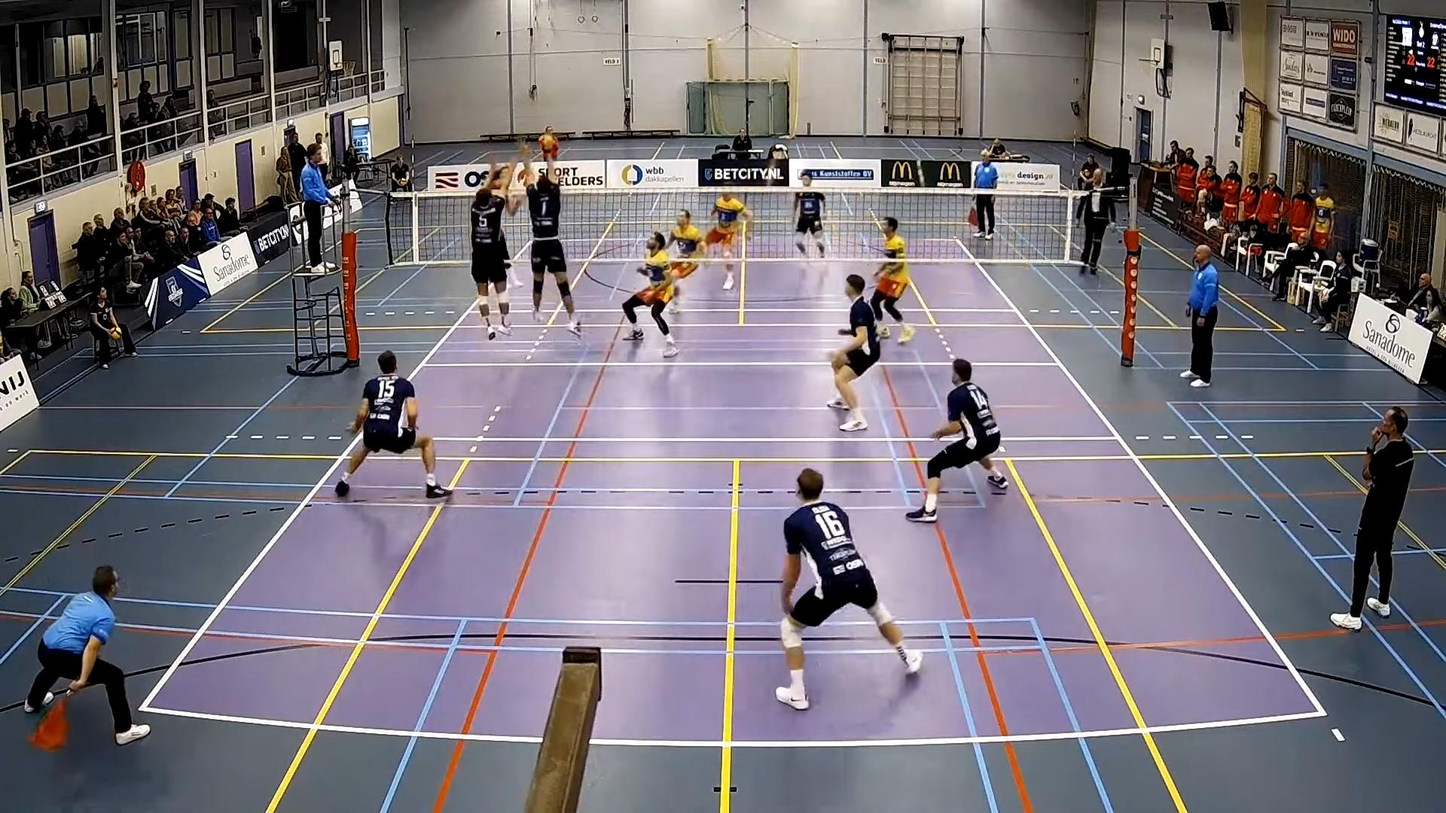Attack: (474, 148, 527, 294)
Block: (461, 153, 517, 346), (524, 144, 574, 336)
Player: (775, 468, 922, 709), (335, 351, 451, 498), (906, 358, 1008, 522), (828, 274, 880, 431), (622, 232, 677, 357), (871, 218, 914, 343), (706, 191, 751, 290), (667, 209, 702, 313), (795, 171, 825, 257)
ball: (538, 135, 553, 145)
